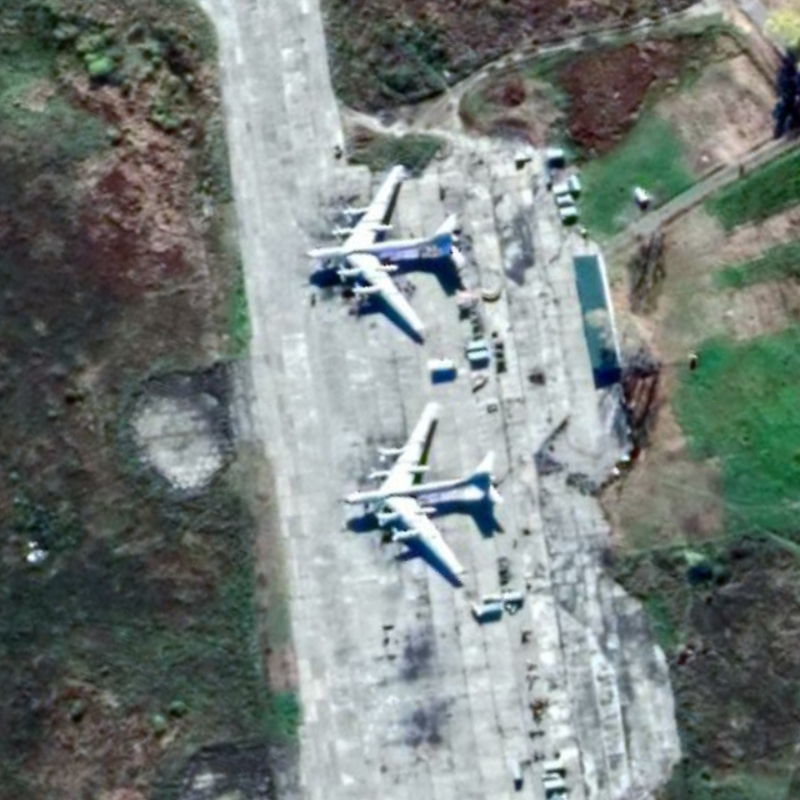A17: (341, 400, 506, 580), (303, 163, 468, 336)
